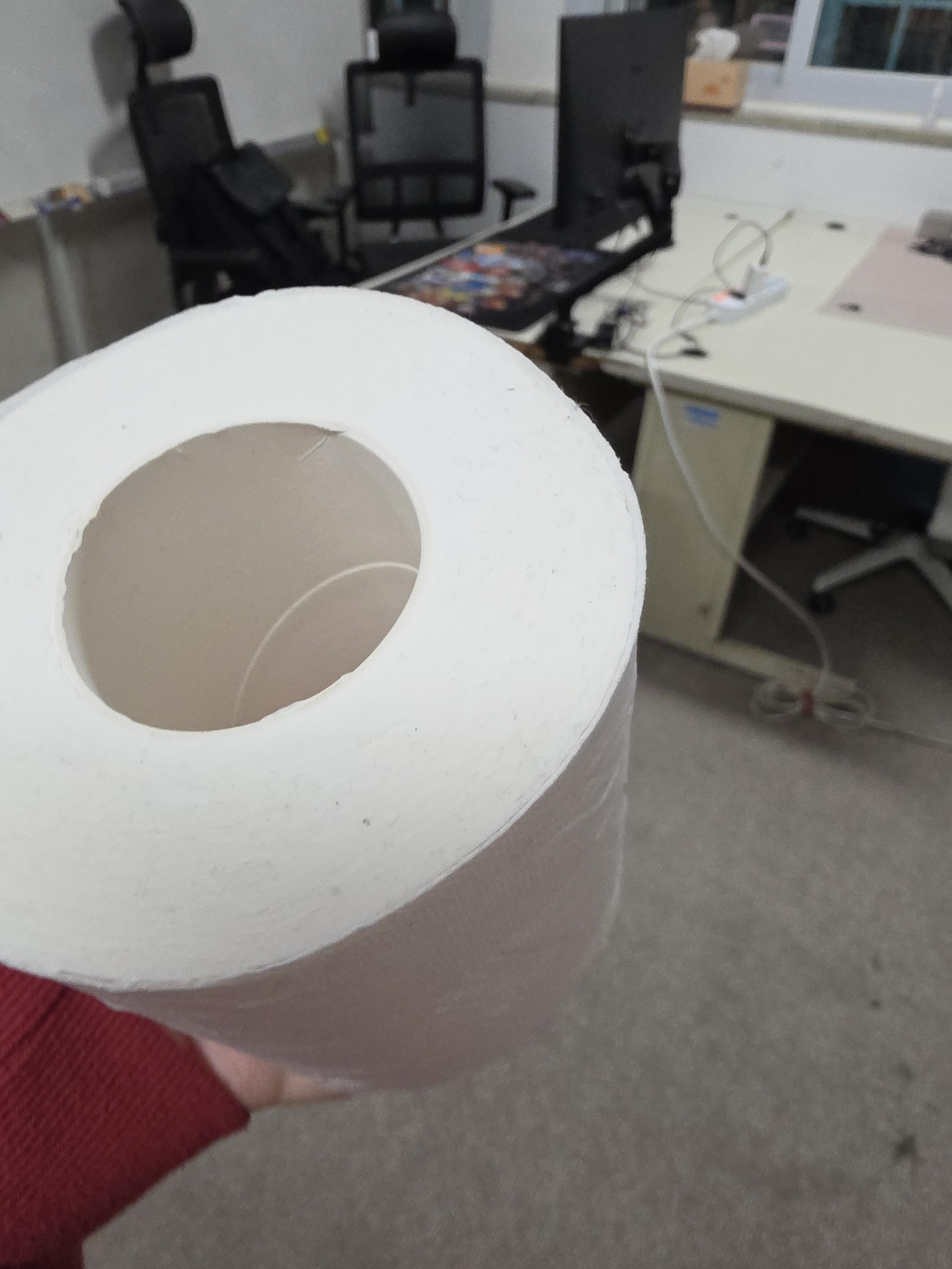tissue: (0, 286, 647, 1095), (682, 27, 748, 111)
